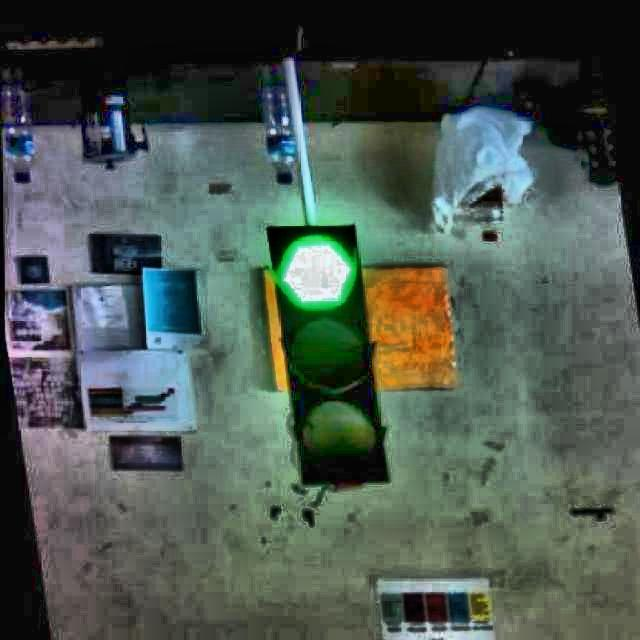green: (271, 219, 391, 481)
